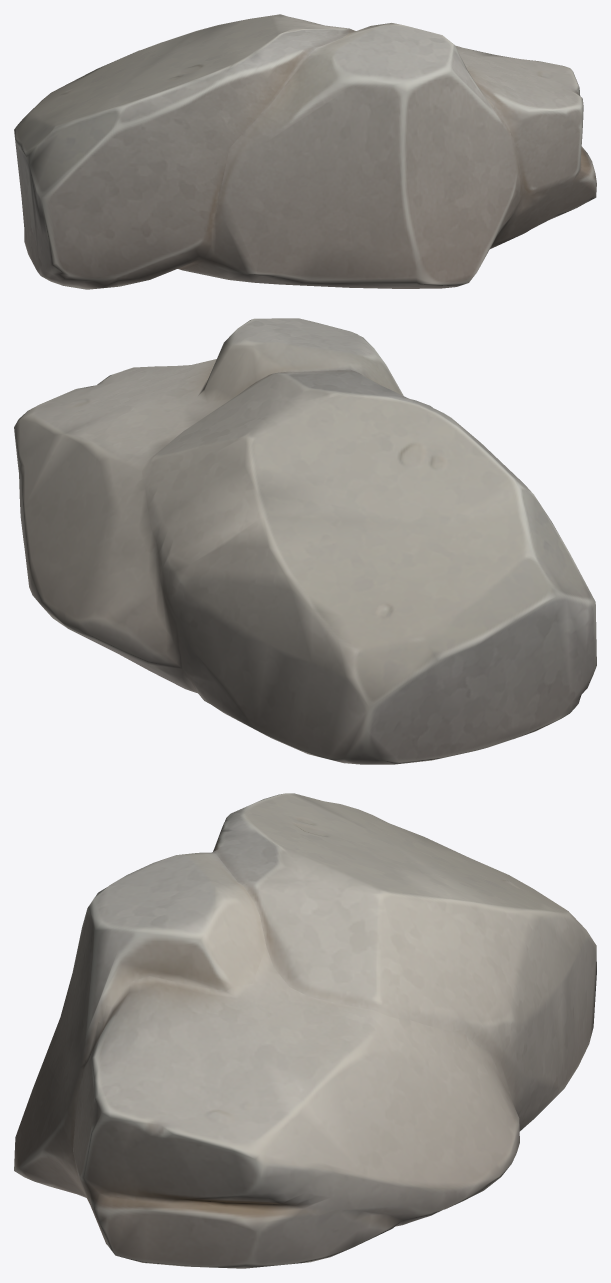
File: rock1.glb
3 views of the same model, one above another, from view 1: azimuth 30°, elevation 25°; view 2: azimuth 150°, elevation 25°; view 3: azimuth 270°, elevation 25° (orthographic). The views are drawn at different scales.
Visible parts, largest first — view 1: SM_Rocks_03_RocksStylized_M_0; view 2: SM_Rocks_03_RocksStylized_M_0; view 3: SM_Rocks_03_RocksStylized_M_0.
Part boxes in pixels (bbox=[...]): SM_Rocks_03_RocksStylized_M_0: bbox=[14, 14, 596, 289]; SM_Rocks_03_RocksStylized_M_0: bbox=[14, 318, 596, 764]; SM_Rocks_03_RocksStylized_M_0: bbox=[14, 793, 596, 1268].
Bounding box in the file's own units: 26.27 × 10.68 × 19.35.
1 material, 1 textured.
